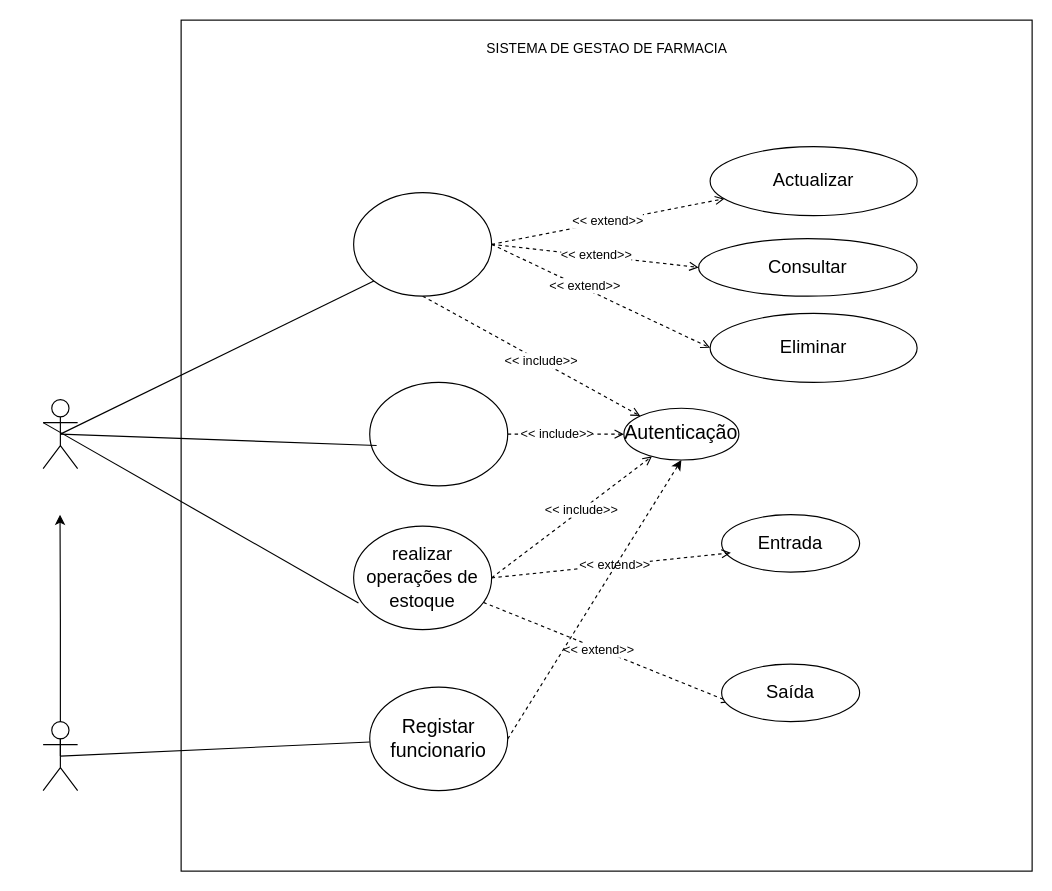
The diagram is 1052 pixels wide and 891 high, and some of its shapes have lost their labels. The box of each missing label's shape, as (x1, y1, x2, y2) in pixels:
Adminstrador: (42, 720, 78, 791)
Funcionário: (42, 398, 78, 469)
Registar Cliente: (369, 381, 508, 486)
Registar produto: (352, 191, 492, 296)
